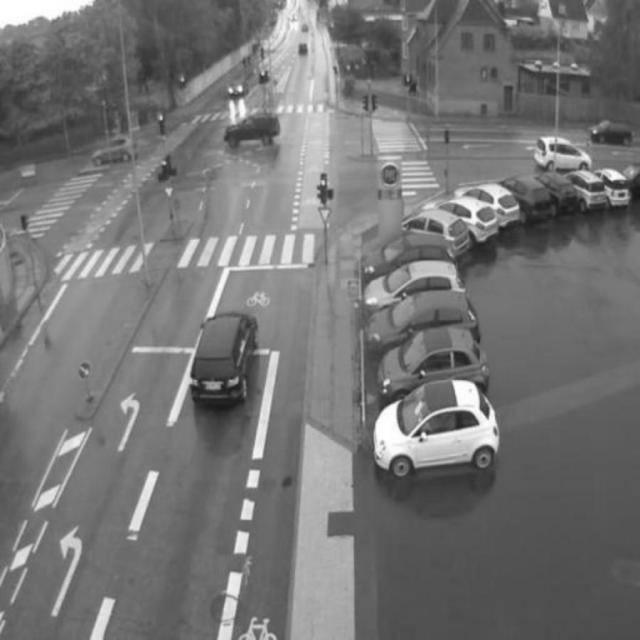vehicle: (374, 382, 496, 480), (363, 292, 487, 360), (382, 328, 488, 386), (186, 313, 259, 397), (365, 231, 461, 275), (368, 262, 460, 306), (428, 192, 499, 246), (403, 211, 473, 261), (532, 136, 593, 174), (224, 114, 281, 149)
